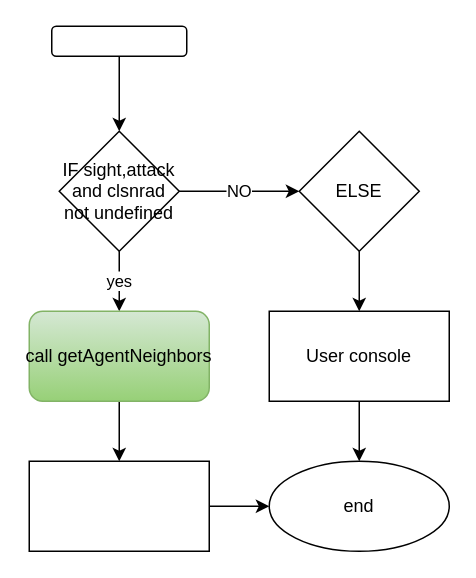
This 476x578 diagram has some shape labels left out. The shapes that lost their labels are listed below. From the top down, each one's centre as x and y in pixels, then its label:
[118,40]: start
[118,505]: parse the neighbour agent list and return it
